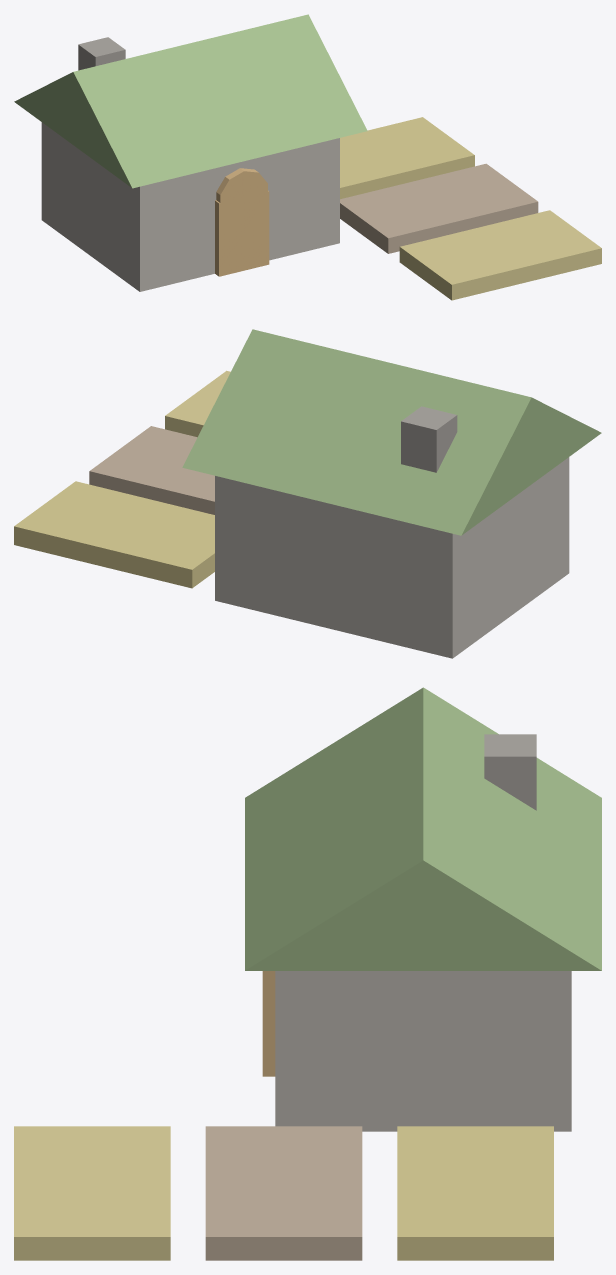
3 renders of one model, top to bottom at view 1: azimuth 30°, elevation 25°; view 2: azimuth 150°, elevation 25°; view 3: azimuth 270°, elevation 25°, orthographic. The views are drawn at different scales.
Visible parts, largest first — view 1: body; view 2: body; view 3: body.
Part boxes in pixels (<box>): body: <box>14,14,601,300</box>; body: <box>14,329,601,658</box>; body: <box>14,687,601,1260</box>.
Size of the model in its own units: 7.85 by 3.6 by 6.75.
